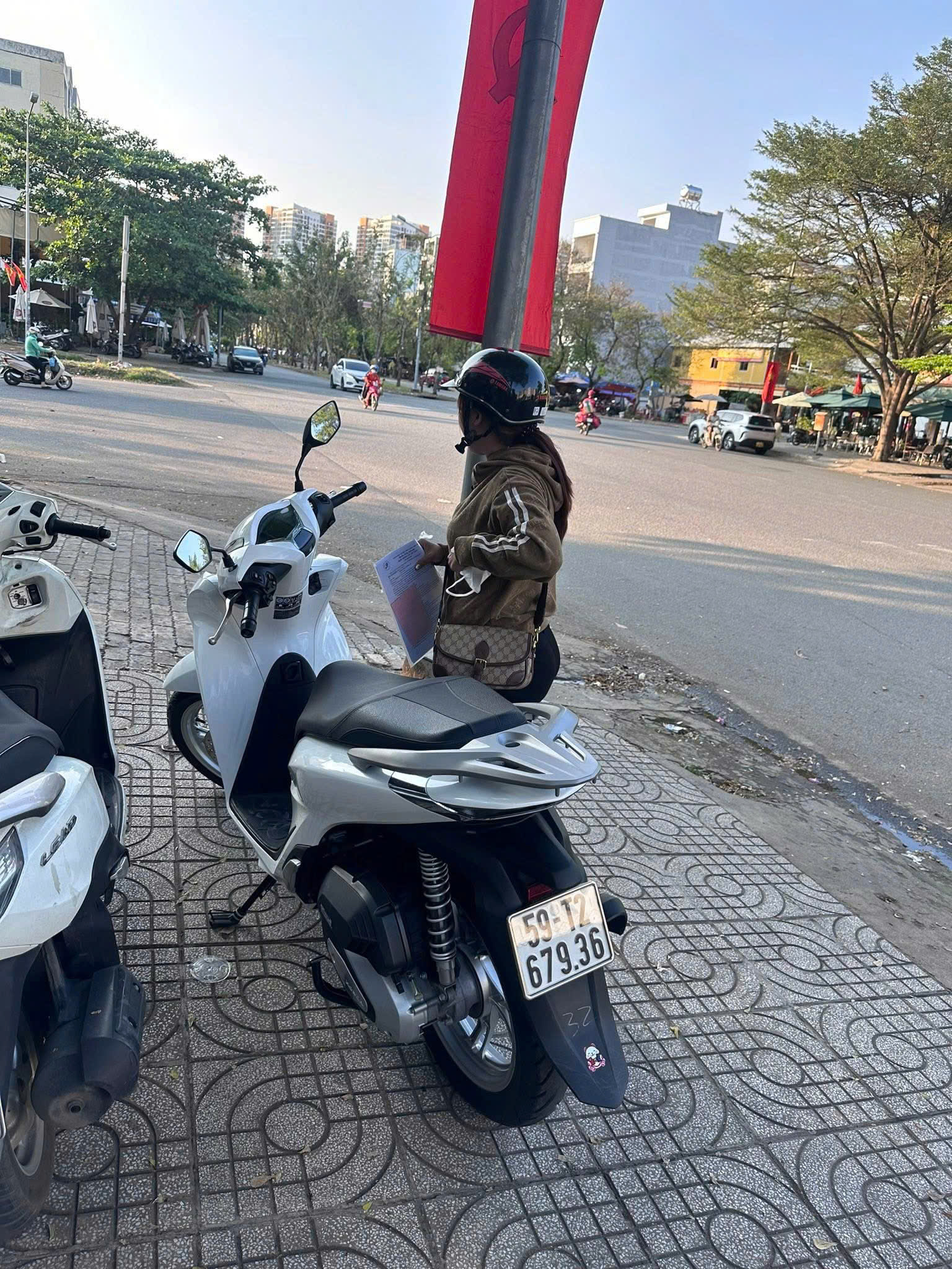Bien-so: (506, 874, 623, 1003)
